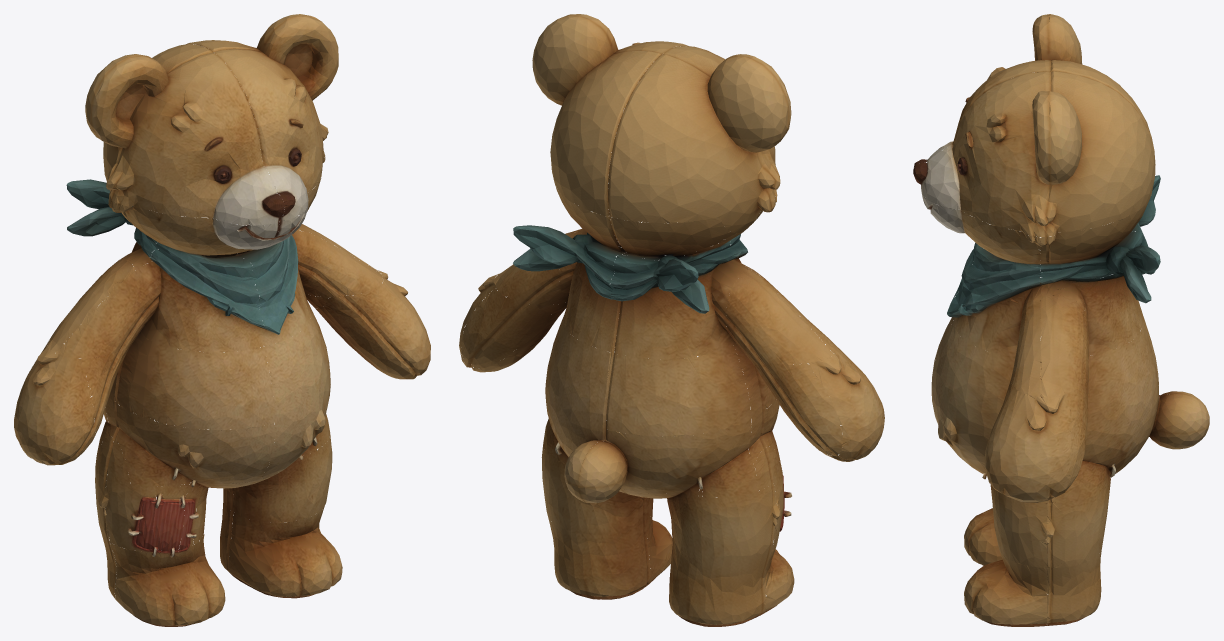
File: game.glb
3 views of the same model, side by side, from view 1: azimuth 30°, elevation 25°; view 2: azimuth 150°, elevation 25°; view 3: azimuth 270°, elevation 25° (orthographic). The views are drawn at different scales.
Visible parts, largest first — view 1: world; view 2: world; view 3: world.
Part boxes in pixels (<box>): world: <box>14,14,430,626</box>; world: <box>459,14,884,626</box>; world: <box>913,14,1209,626</box>.
Size of the model in its own units: 0.7605 by 0.9984 by 0.5072.
1 material, 1 textured.
